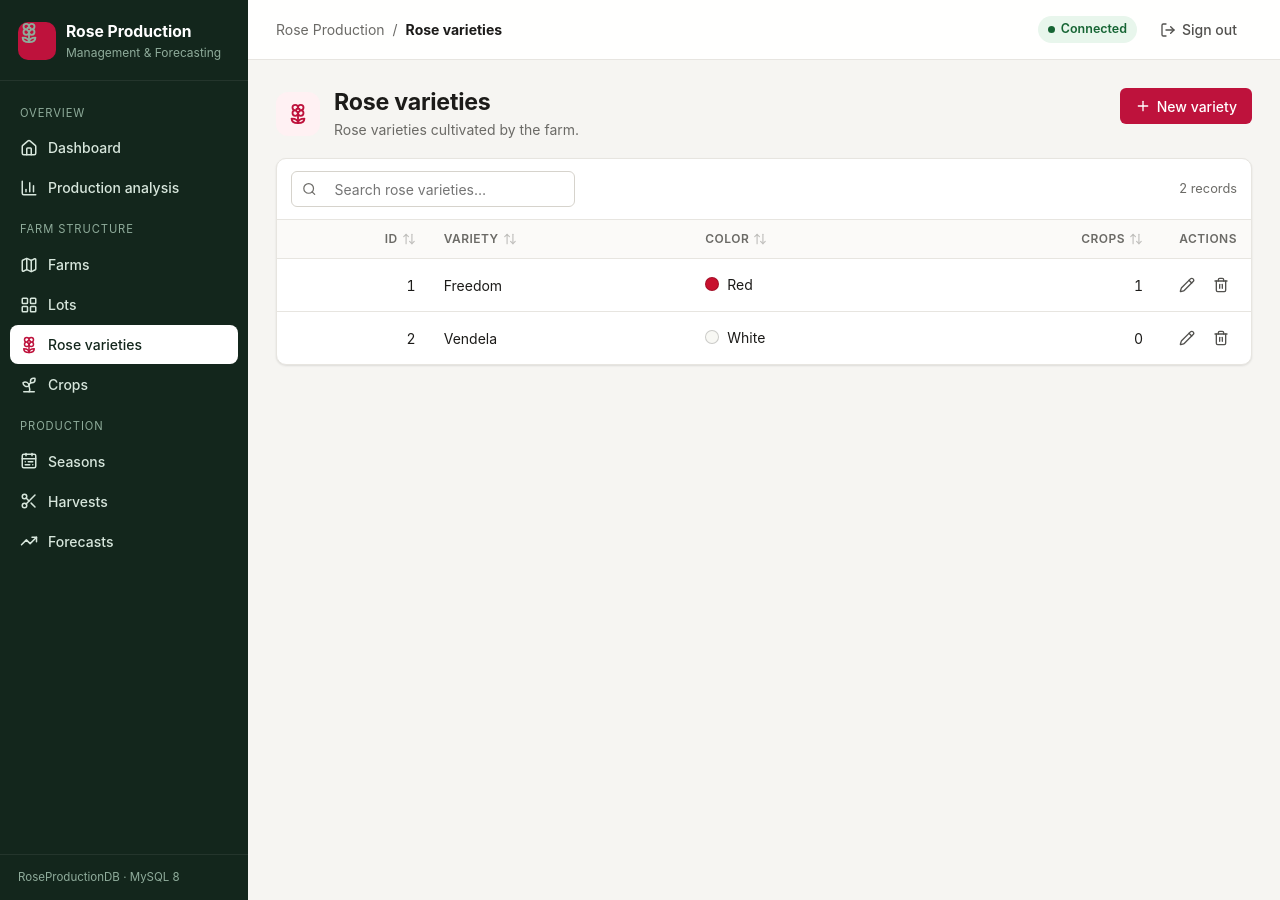
Test: rose variety CRUD › keeps the dialog open and shows the reason when a delete is refused (409)
The image size is (1280, 900).
Click the button named "Delete Freedom" at (1221, 285), box left=1205, top=269, right=1237, bottom=301
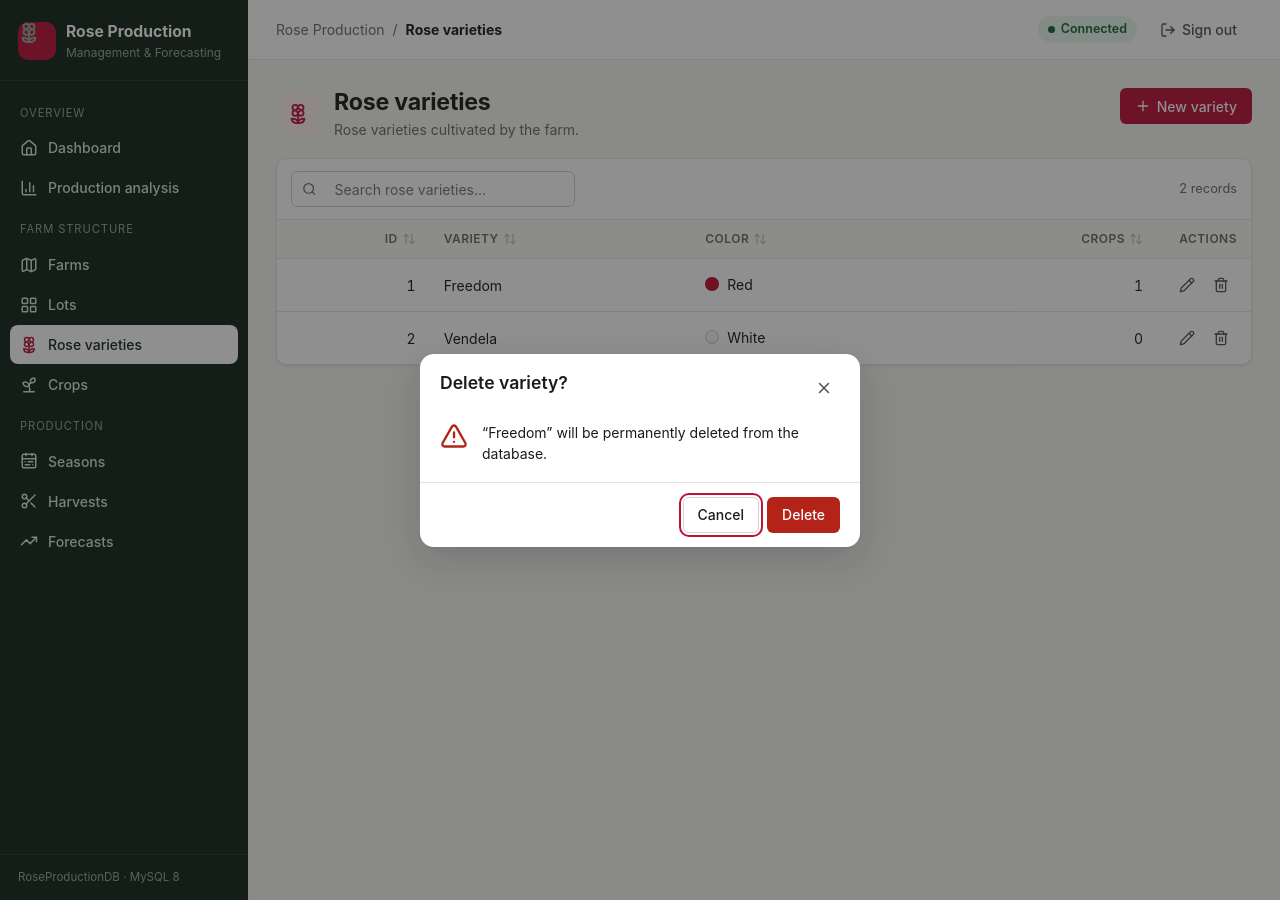
Click the button "Delete" at (804, 514), box left=767, top=496, right=840, bottom=532
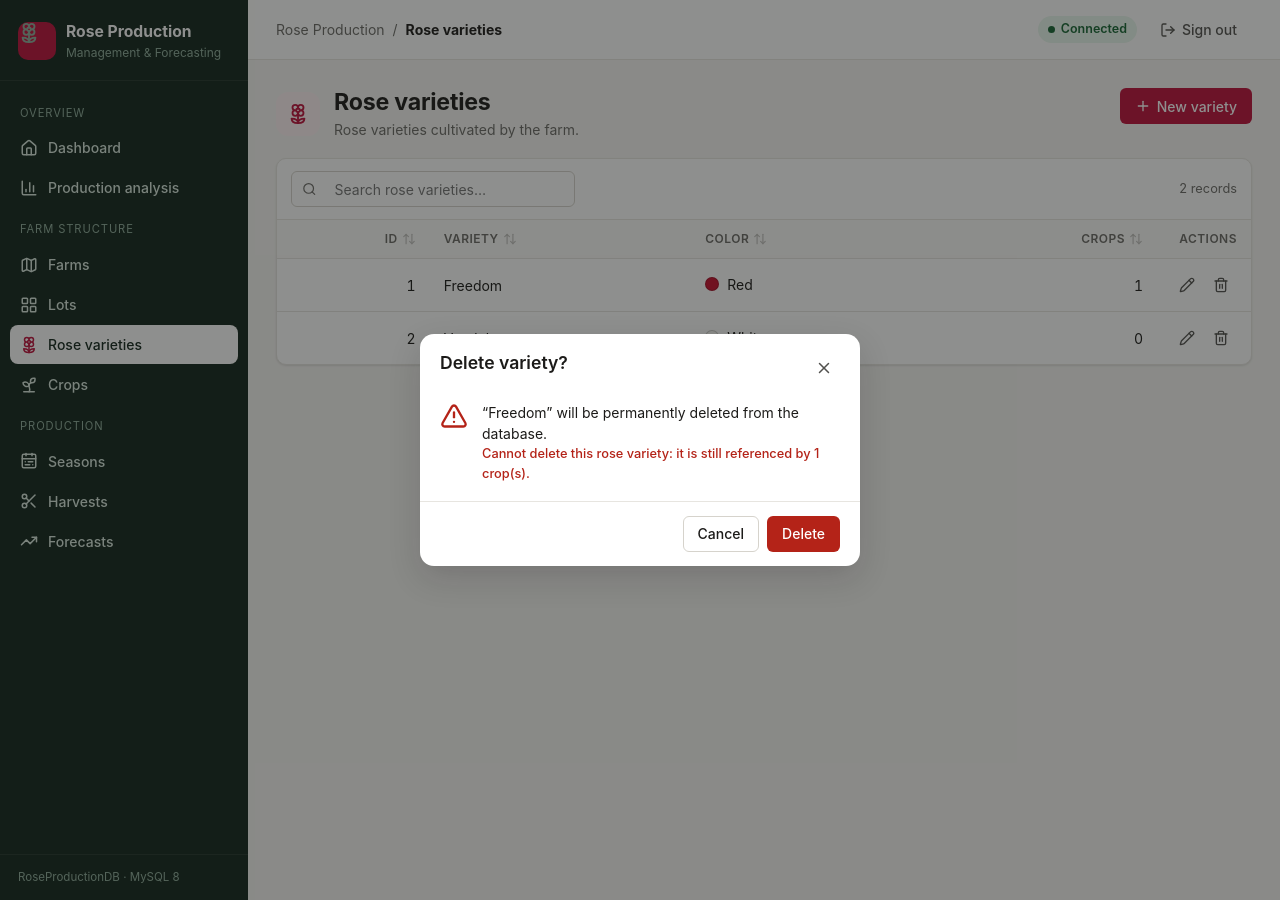
Expected: the dialog is shown, left=420, top=334, right=860, bottom=566
Expected: the text "Cannot delete this rose variety: it is still referenced by 1 crop(s)." is shown, left=482, top=444, right=840, bottom=483
